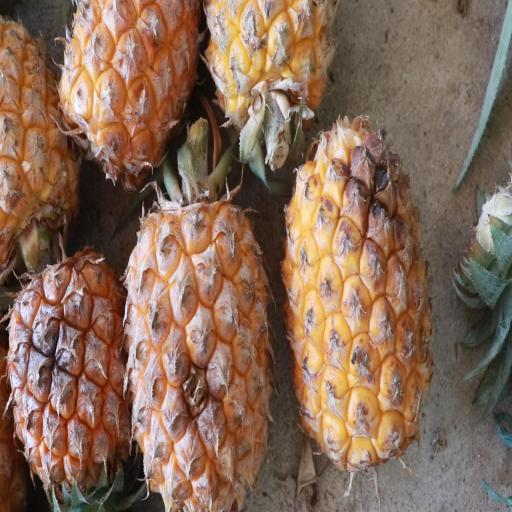Pineapple - v8 v1: (281, 119, 432, 477), (118, 162, 269, 510), (2, 243, 140, 512), (60, 0, 204, 188), (210, 1, 344, 178), (0, 0, 89, 266)
